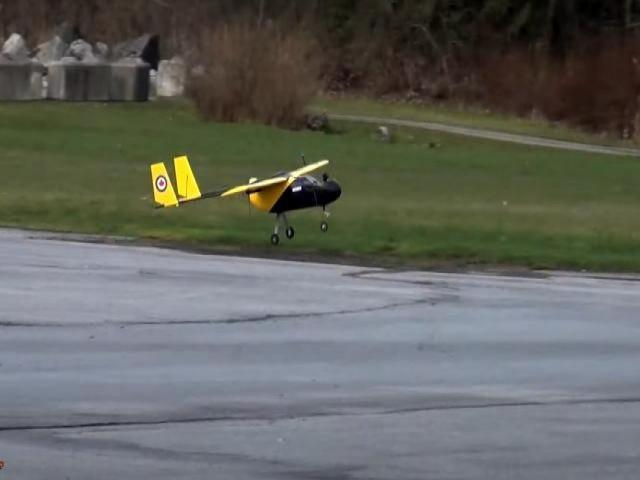iha: (152, 152, 356, 239)
